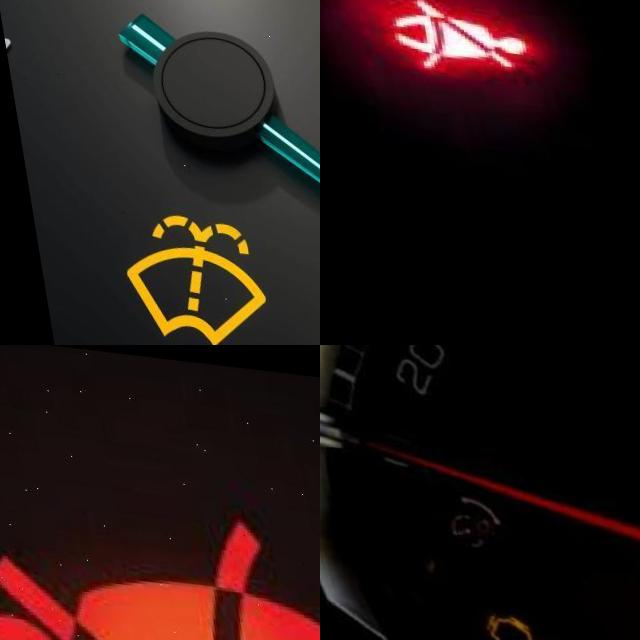Seat Belt: (0, 485, 320, 640), (385, 0, 524, 69)
